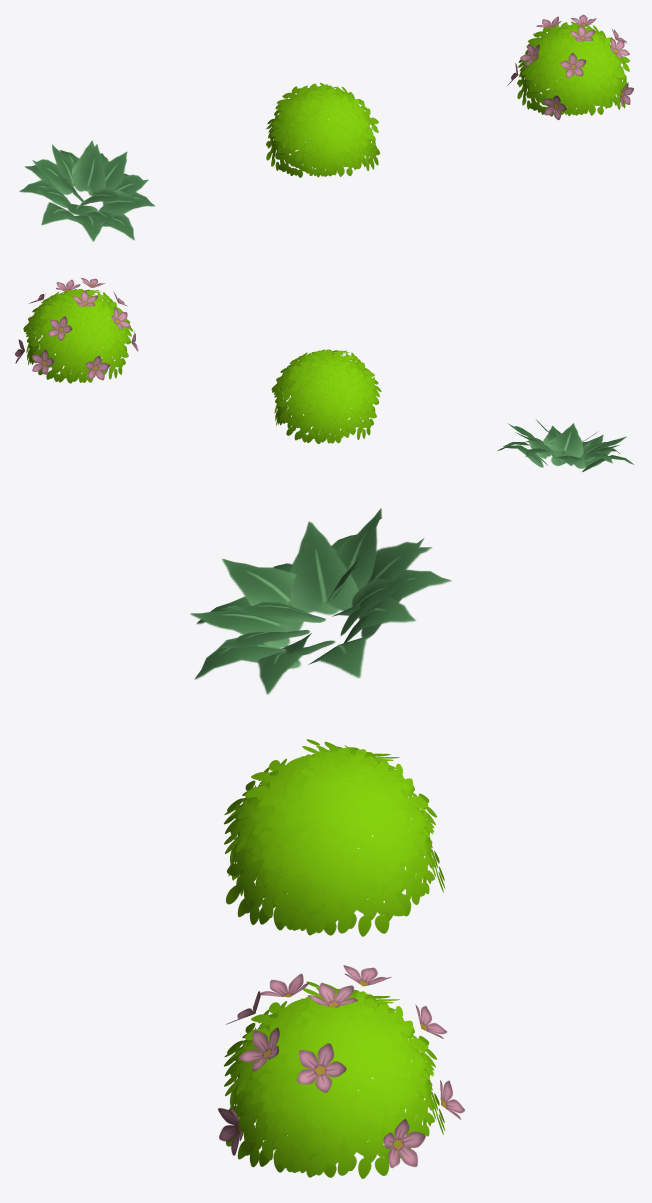
File: Bushes.glb
3 renders of one model, top to bottom at view 1: azimuth 30°, elevation 25°; view 2: azimuth 150°, elevation 25°; view 3: azimuth 270°, elevation 25°, orthographic. The views are drawn at different scales.
Parts seen in each view (by area): view 1: Bush_Flowers, Bush, Plant_1; view 2: Bush_Flowers, Bush, Plant_1; view 3: Bush_Flowers, Bush, Plant_1.
Part boxes in pixels (x1=…): Bush_Flowers: x1=507, y1=14, x2=633, y2=119; Bush: x1=266, y1=82, x2=380, y2=177; Plant_1: x1=19, y1=140, x2=155, y2=241; Bush_Flowers: x1=15, y1=277, x2=138, y2=383; Bush: x1=271, y1=349, x2=381, y2=443; Plant_1: x1=497, y1=419, x2=634, y2=471; Bush_Flowers: x1=218, y1=965, x2=464, y2=1178; Bush: x1=224, y1=739, x2=445, y2=936; Plant_1: x1=190, y1=508, x2=451, y2=694.
Bounding box in the file's own units: 6.03 × 0.7975 × 1.23.
Materials: 2 (2 with a texture image).
